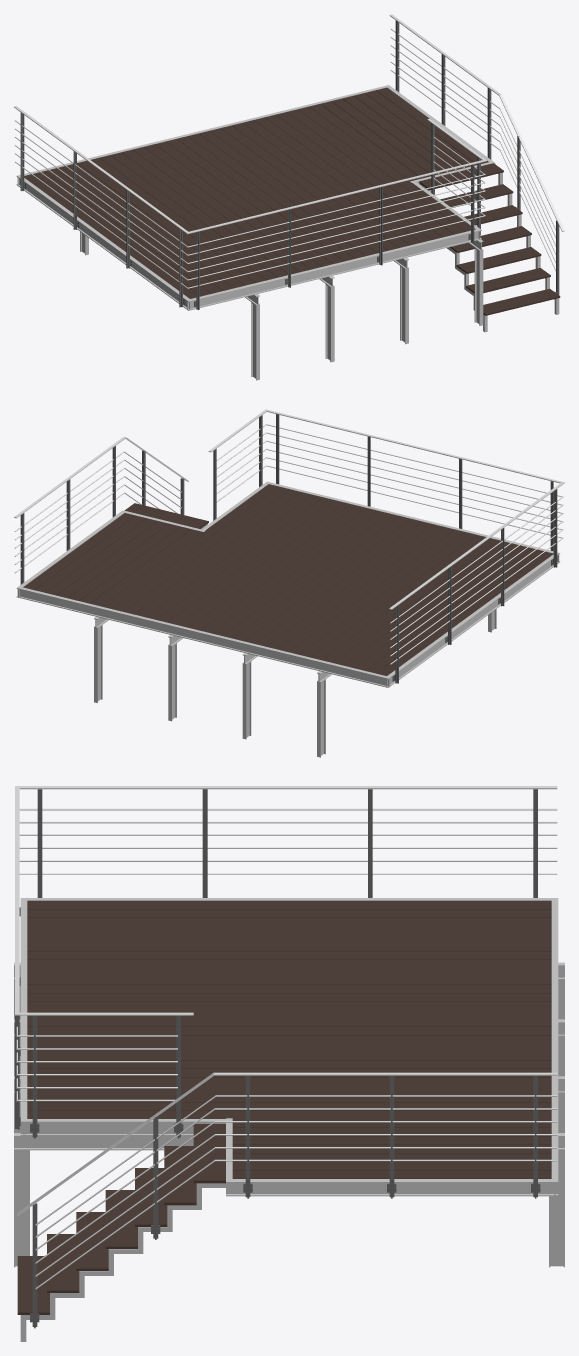
Rendered from terasa_merge.glb.
3 views of the same model, one above another, from view 1: azimuth 30°, elevation 25°; view 2: azimuth 150°, elevation 25°; view 3: azimuth 270°, elevation 25° (orthographic). The views are drawn at different scales.
Parts seen in each view (by area): view 1: Dusumea 3900x145x19, stinghii Fi12, profil I, Scara, Montant T35 + talpa, Traverse + stalpi, Platbanda 35x10; view 2: Dusumea 3900x145x19, profil I, stinghii Fi12, Montant T35 + talpa, Traverse + stalpi, Platbanda 35x10, Scara; view 3: Dusumea 3900x145x19, stinghii Fi12, profil I, Scara, Montant T35 + talpa, Traverse + stalpi, Platbanda 35x10.
Part boxes in pixels (<box>): Dusumea 3900x145x19: <box>24,87,488,298</box>; stinghii Fi12: <box>15,28,555,288</box>; profil I: <box>16,85,495,310</box>; Scara: <box>419,163,560,332</box>; Montant T35 + talpa: <box>20,20,559,309</box>; Traverse + stalpi: <box>80,231,483,380</box>; Platbanda 35x10: <box>14,14,564,234</box>; Dusumea 3900x145x19: <box>23,484,553,675</box>; profil I: <box>16,481,560,687</box>; stinghii Fi12: <box>14,424,563,664</box>; Montant T35 + talpa: <box>20,414,557,683</box>; Traverse + stalpi: <box>94,609,496,757</box>; Platbanda 35x10: <box>14,409,564,609</box>; Scara: <box>125,503,208,529</box>; Dusumea 3900x145x19: <box>27,900,551,1178</box>; stinghii Fi12: <box>16,808,557,1289</box>; profil I: <box>20,898,558,1196</box>; Scara: <box>17,1124,225,1341</box>; Montant T35 + talpa: <box>15,789,540,1328</box>; Traverse + stalpi: <box>14,962,564,1267</box>; Platbanda 35x10: <box>15,786,557,1215</box>.
Size of the model in its own units: 5.08 by 2.22 by 4.1.
